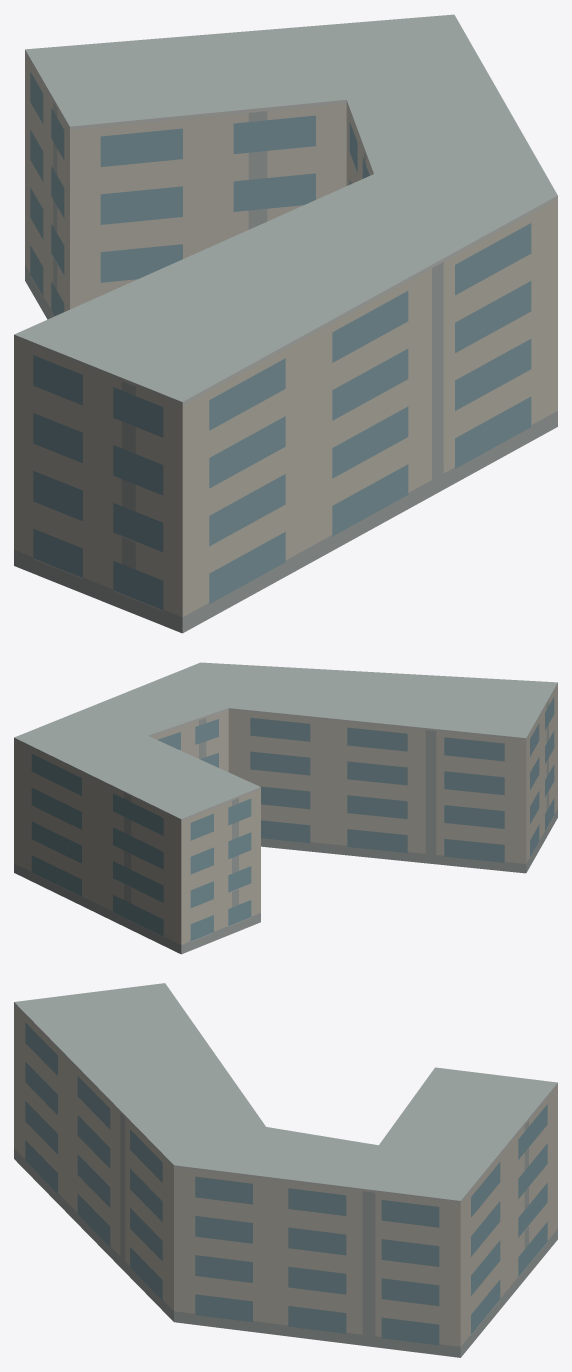
The model's file is residential-257fa9b4-400c-41e7-bea8-f187b4a690c9.glb.
3 views of the same model, one above another, from view 1: azimuth 30°, elevation 25°; view 2: azimuth 150°, elevation 25°; view 3: azimuth 270°, elevation 25° (orthographic). The views are drawn at different scales.
Parts seen in each view (by area): view 1: residential-257fa9b4-400c-41e7-bea8-f187b4a690c9.tmp; view 2: residential-257fa9b4-400c-41e7-bea8-f187b4a690c9.tmp; view 3: residential-257fa9b4-400c-41e7-bea8-f187b4a690c9.tmp.
Boxes of the visible parts, x1=… form: residential-257fa9b4-400c-41e7-bea8-f187b4a690c9.tmp: x1=14, y1=14, x2=557, y2=633; residential-257fa9b4-400c-41e7-bea8-f187b4a690c9.tmp: x1=14, y1=662, x2=557, y2=954; residential-257fa9b4-400c-41e7-bea8-f187b4a690c9.tmp: x1=14, y1=983, x2=557, y2=1357.
Size of the model in its own units: 47.65 by 16 by 50.26.
